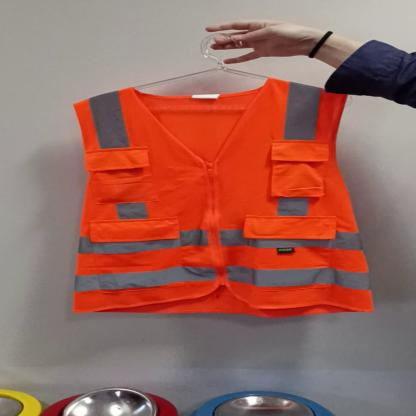colete: (62, 82, 376, 319)
